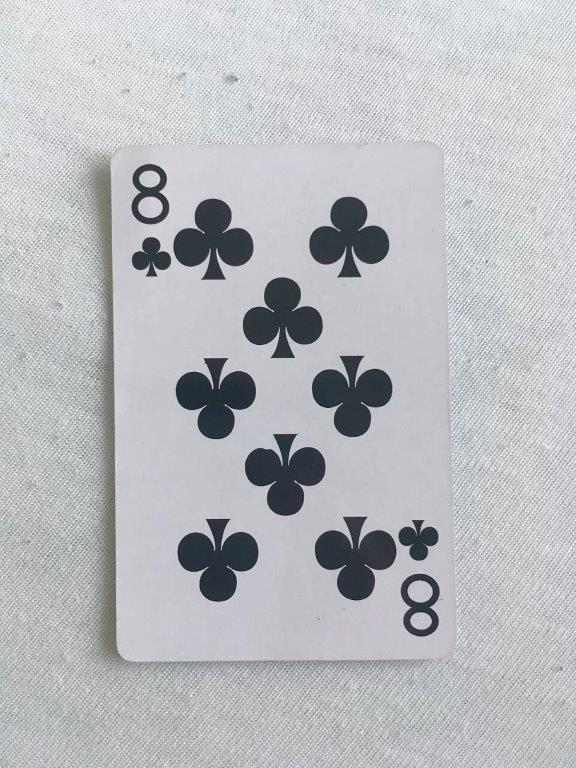8C: (106, 139, 463, 665)
